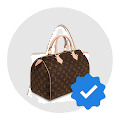fraud: (70, 73, 106, 111)
